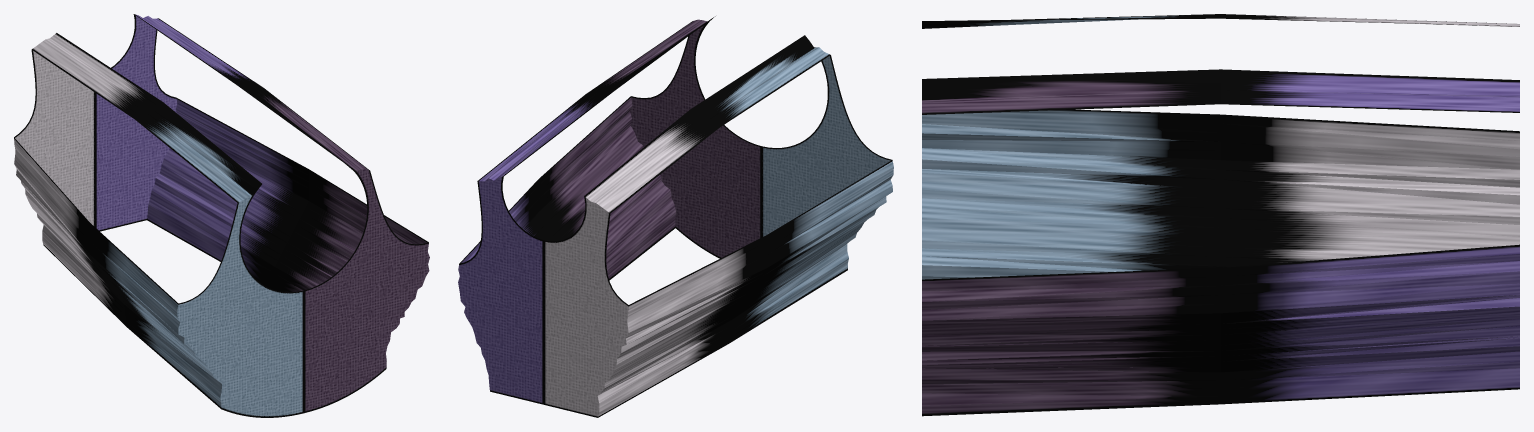
Rendered from tank_knit2_b100_boxmesh.obj.
3 views of the same model, side by side, from view 1: azimuth 30°, elevation 25°; view 2: azimuth 150°, elevation 25°; view 3: azimuth 270°, elevation 25° (orthographic). The views are drawn at different scales.
Size of the model in its own units: 38.46 by 35.42 by 55.
1 material, 1 textured.
